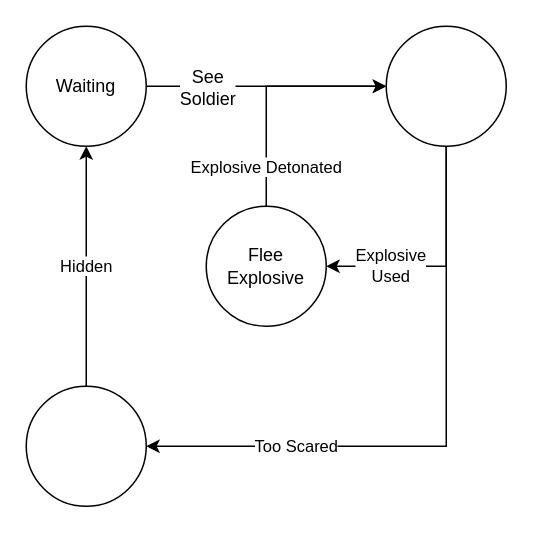
Image size: 533x533. Some labels were removed from this diagram. Here are the shapes that lost their labels. From the top down, the centre of each, then its label:
At [445,85]: "Attack".
At [85,445]: "Hide".
